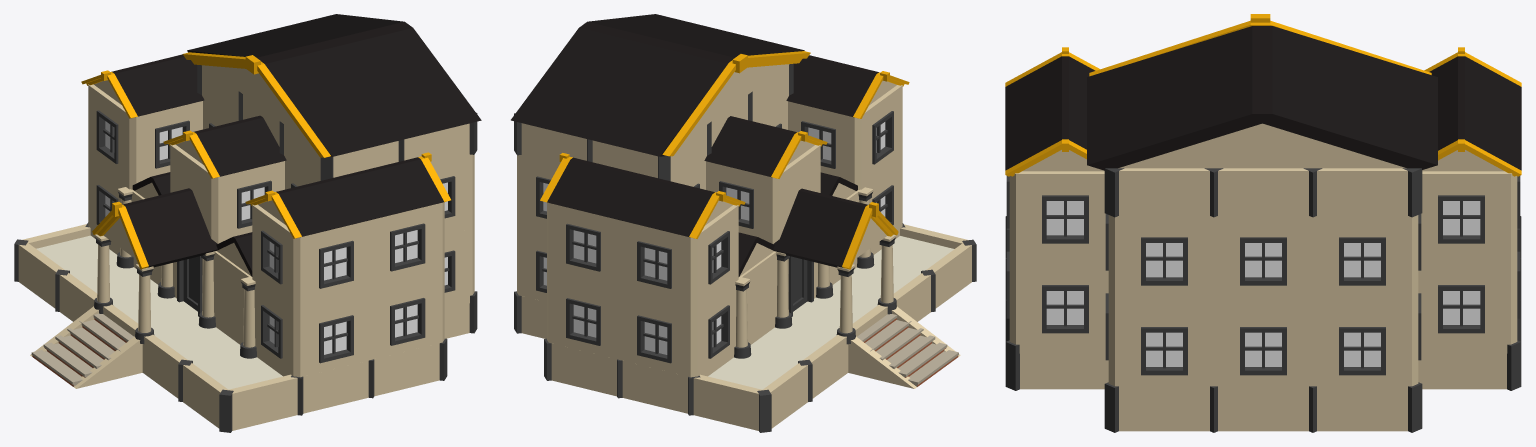
The model's file is grande_bibliotheque.glb.
3 renders of one model, left to right at view 1: azimuth 30°, elevation 25°; view 2: azimuth 150°, elevation 25°; view 3: azimuth 270°, elevation 25°, orthographic. The views are drawn at different scales.
Visible parts, largest first — view 1: mergedBlocks(Clone); view 2: mergedBlocks(Clone); view 3: mergedBlocks(Clone).
Part boxes in pixels (<box>): mergedBlocks(Clone): <box>14,14,481,432</box>; mergedBlocks(Clone): <box>511,14,976,432</box>; mergedBlocks(Clone): <box>1005,14,1521,432</box>.
Bounding box in the file's own units: 5.11 × 3.57 × 5.21.
Materials: 1 (1 with a texture image).
